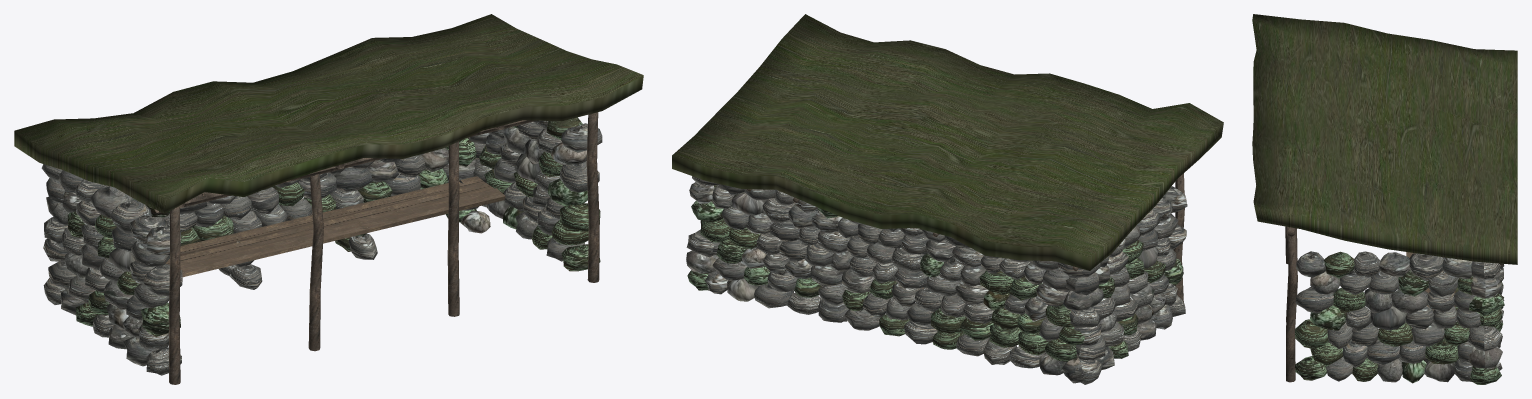
The model's file is cw_shelter.glb.
3 renders of one model, left to right at view 1: azimuth 30°, elevation 25°; view 2: azimuth 150°, elevation 25°; view 3: azimuth 270°, elevation 25°, orthographic. The views are drawn at different scales.
Parts seen in each view (by area): view 1: cw_shelter; view 2: cw_shelter; view 3: cw_shelter.
Boxes of the visible parts, x1,y1,x2,y2 form: cw_shelter: (14, 14, 643, 384); cw_shelter: (672, 14, 1223, 384); cw_shelter: (1252, 14, 1517, 384).
Size of the model in its own units: 6.54 by 2.86 by 3.62.
Materials: 1 (1 with a texture image).
